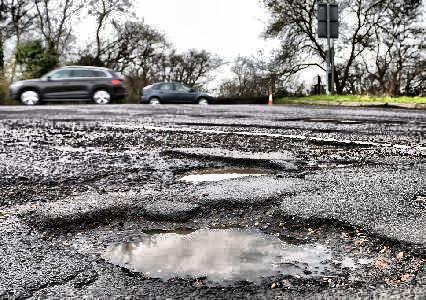pothole: (41, 196, 423, 291), (162, 148, 285, 184), (281, 115, 362, 124), (312, 138, 372, 149)
